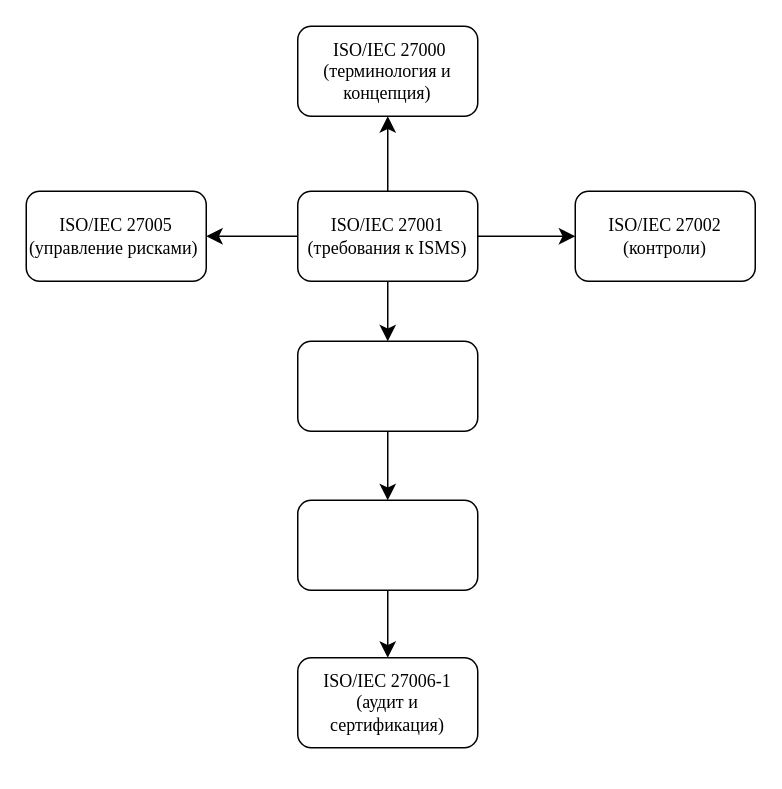
The diagram is 782 pixels wide and 789 high, and some of its shapes have lost their labels. The centre of each missing label's shape, as x and y in pixels:
"ISO/IEC 27003 (внедрение ISMS)" goes at [387,544].
"ISO/IEC 27004 (мониторинг и измерение)" goes at [387,385].
